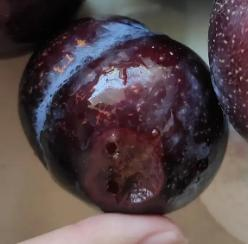plum_C: (18, 15, 230, 216)
